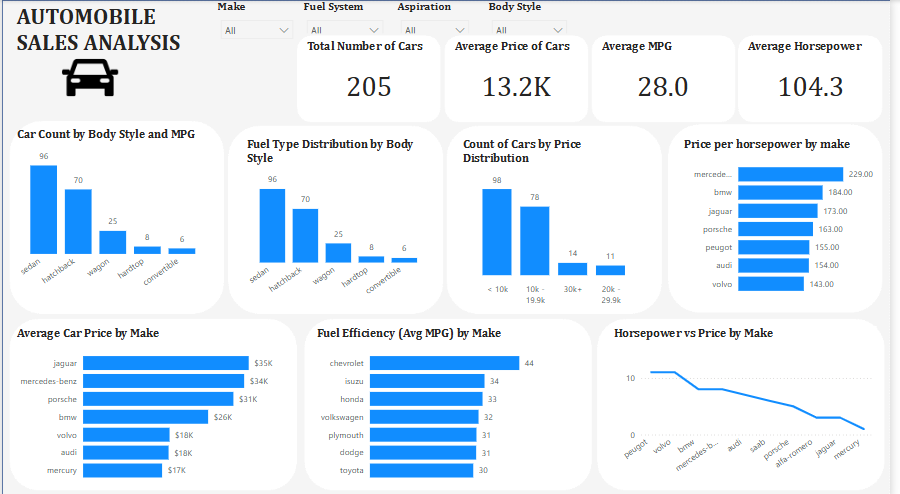

The page's visual inventory and layout, read from the dashboard file:
{"tool":"powerbi","page":{"name":"Page 3","canvas":[1280,720],"ordinal":0},"visuals":[{"type":"clusteredBarChart","title":"Average Car Price by Make","fields":{"Category":["Automobile_raw.make"],"Y":["Avg(Automobile_raw.price)"]},"box":[15.8,470.1,387.3,234.2],"z":0},{"type":"clusteredBarChart","title":"Fuel Efficiency (Avg MPG) by Make","fields":{"Category":["Automobile_raw.make"],"Y":["Avg(Automobile_raw.Average Combined MPG)"]},"box":[447.2,470.1,397.9,234.2],"z":1000},{"type":"clusteredColumnChart","title":"Car Count by Body Style and MPG","fields":{"Category":["Automobile_raw.body_style"],"Y":["CountNonNull(Automobile_raw.Combined MPG)"]},"box":[15.8,183.1,288.7,251.8],"z":2000},{"type":"columnChart","title":"Fuel Type Distribution by Body Style","fields":{"Category":["Automobile_raw.body_style"],"Y":["CountNonNull(Automobile_raw.fuel_type)"]},"box":[346.9,197.2,276.4,250],"z":3000},{"type":"columnChart","title":"Count of Cars by Price Distribution ","fields":{"Category":["Automobile_raw.Price Bucket"],"Y":["CountNonNull(Automobile_raw.price)"]},"box":[658.5,197.2,267.6,250],"z":4000},{"type":"lineChart","title":"Horsepower vs Price by Make","fields":{"Category":["Automobile_raw.make"],"Y":["CountNonNull(Automobile_raw.horsepower)"]},"box":[875.5,469.4,384.5,224.6],"z":5000},{"type":"clusteredBarChart","title":"Price per horsepower by make","fields":{"Category":["Query1.make"],"Y":["Avg(Query1.price_per_horsepower)"]},"box":[976.3,197.3,283.7,237.6],"z":6000},{"type":"card","title":"Total Number of Cars","fields":{"Values":["Automobile_raw.Total Cars"]},"box":[433.4,56.2,190.1,110.9],"z":7000},{"type":"card","title":"Average Price of Cars","fields":{"Values":["Automobile_raw.Average Price"]},"box":[646.6,56.2,187.2,110.9],"z":8000},{"type":"card","title":"Average MPG","fields":{"Values":["Automobile_raw.Average MPG"]},"box":[858.2,56.2,187.2,110.9],"z":9000},{"type":"card","title":"Average Horsepower","fields":{"Values":["Automobile_raw.Average Horsepower"]},"box":[1068.5,56.2,191.5,110.9],"z":10000},{"type":"slicer","title":"Make","fields":{"Values":["Automobile_raw.make"]},"box":[305.3,0,123.8,56.2],"z":10001},{"type":"slicer","title":"Fuel System","fields":{"Values":["Automobile_raw.fuel_system"]},"box":[429.1,0,129.6,47.5],"z":10002},{"type":"slicer","title":"Body Style","fields":{"Values":["Automobile_raw.body_style"]},"box":[695.5,0,128.2,47.5],"z":10003},{"type":"slicer","title":"Aspiration","fields":{"Values":["Automobile_raw.aspiration"]},"box":[564.5,0,118.1,47.5],"z":10004},{"type":"textbox","box":[15.8,0,260.6,93.6],"z":10005},{"type":"image","box":[63.4,66.2,126.7,90.7],"z":10006}]}

Visuals, with their boxes in screenshot pixels (x1, y1, x2, y2), scaled from the page's 1280x720 canvas onto the 900x494 screenshot:
"Average Car Price by Make" clusteredBarChart: box=[11, 323, 283, 483]
"Fuel Efficiency (Avg MPG) by Make" clusteredBarChart: box=[314, 323, 594, 483]
"Car Count by Body Style and MPG" clusteredColumnChart: box=[11, 126, 214, 298]
"Fuel Type Distribution by Body Style" columnChart: box=[244, 135, 438, 307]
"Count of Cars by Price Distribution " columnChart: box=[463, 135, 651, 307]
"Horsepower vs Price by Make" lineChart: box=[616, 322, 886, 476]
"Price per horsepower by make" clusteredBarChart: box=[686, 135, 886, 298]
"Total Number of Cars" card: box=[305, 39, 438, 115]
"Average Price of Cars" card: box=[455, 39, 586, 115]
"Average MPG" card: box=[603, 39, 735, 115]
"Average Horsepower" card: box=[751, 39, 886, 115]
"Make" slicer: box=[215, 0, 302, 39]
"Fuel System" slicer: box=[302, 0, 393, 33]
"Body Style" slicer: box=[489, 0, 579, 33]
"Aspiration" slicer: box=[397, 0, 480, 33]
textbox: box=[11, 0, 194, 64]
image: box=[45, 45, 134, 108]
